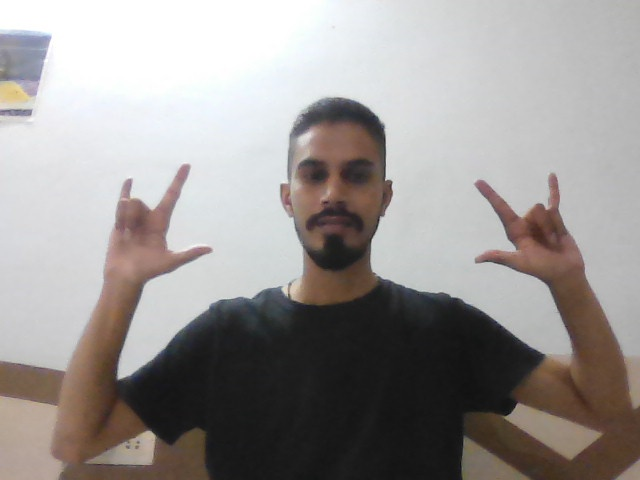ILoveYou: (472, 169, 592, 300), (102, 156, 216, 292)
